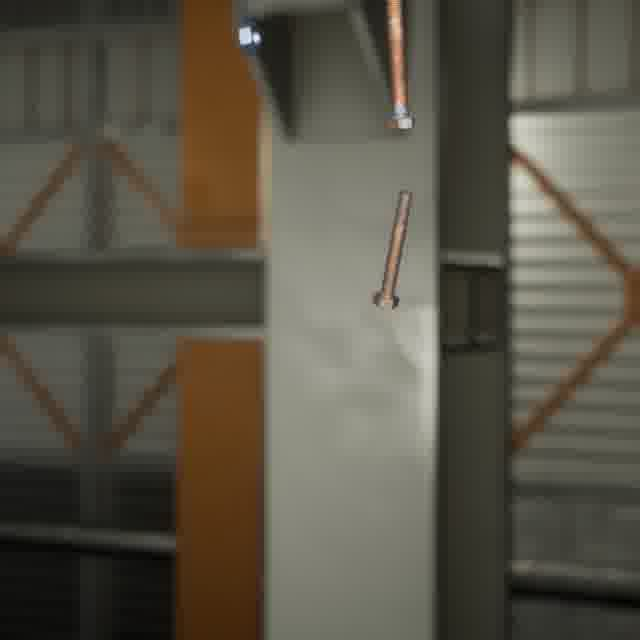bolt: (367, 185, 416, 313), (381, 0, 419, 133)
nut: (234, 17, 265, 59)
